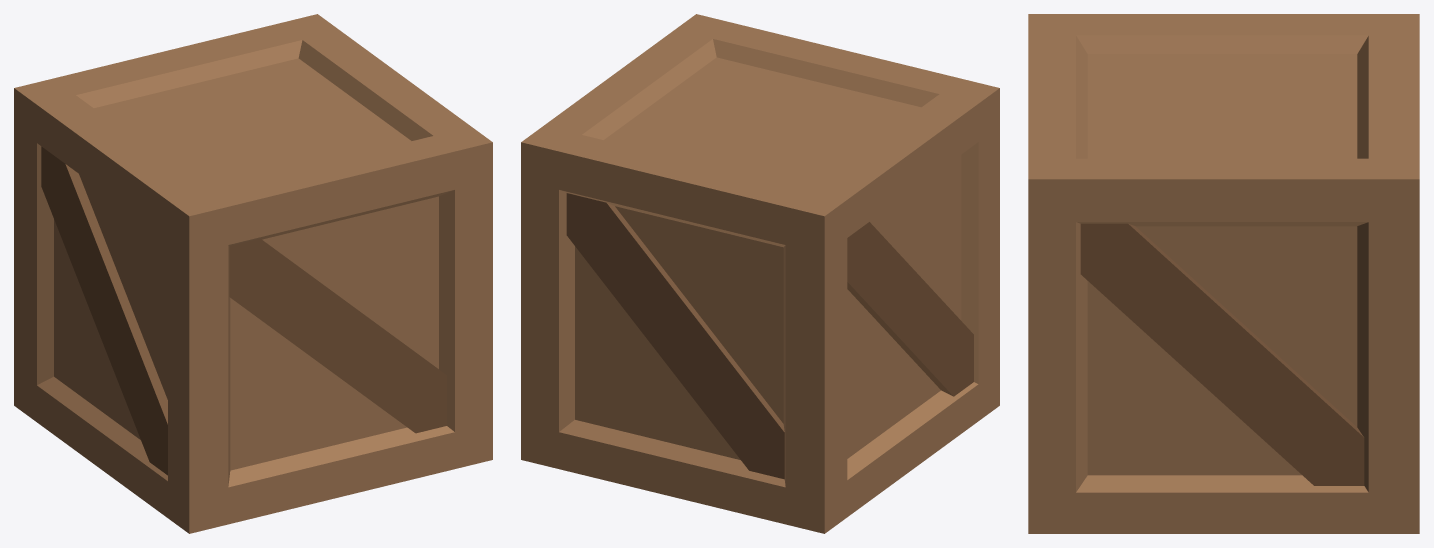
Rendered from Caja.fbx.
The picture shows the model from 3 angles, left to right: view 1: azimuth 30°, elevation 25°; view 2: azimuth 150°, elevation 25°; view 3: azimuth 270°, elevation 25°; orthographic projection. The views are drawn at different scales.
Visible parts, largest first — view 1: Caja; view 2: Caja; view 3: Caja.
Part boxes in pixels (<box>): Caja: <box>14,14,492,533</box>; Caja: <box>521,14,999,533</box>; Caja: <box>1028,14,1419,533</box>.
Bounding box in the file's own units: 1.37 × 1.37 × 1.37.
